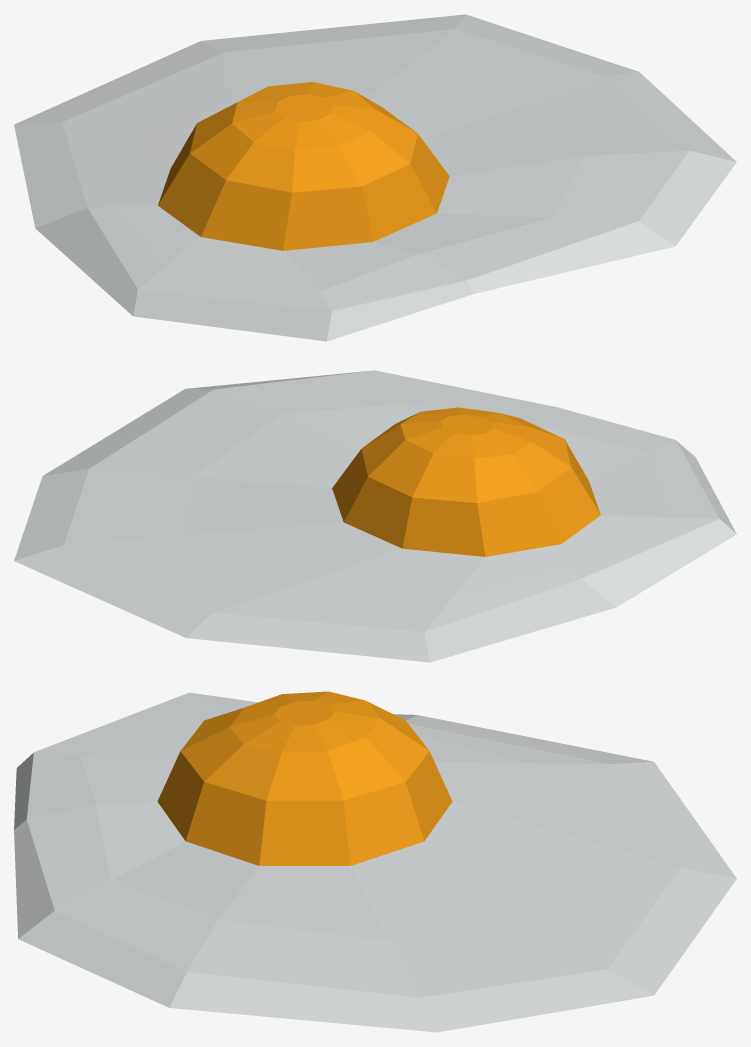
Rendered from egg.fbx.
The picture shows the model from 3 angles, top to bottom: view 1: azimuth 30°, elevation 25°; view 2: azimuth 150°, elevation 25°; view 3: azimuth 270°, elevation 25°; orthographic projection. The views are drawn at different scales.
Parts seen in each view (by area): view 1: Sphere; view 2: Sphere; view 3: Sphere.
Boxes of the visible parts, x1,y1,x2,y2 form: Sphere: (14,14,736,341); Sphere: (14,370,736,662); Sphere: (14,691,736,1032).
Bounding box in the file's own units: 623 × 103 × 584.
